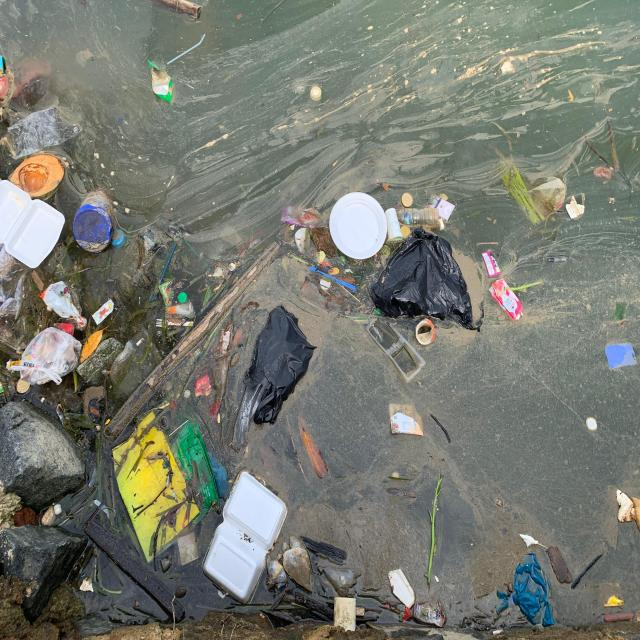Botol Plastik: (397, 207, 441, 229), (310, 86, 325, 103), (400, 193, 415, 209)
Bungkus Makanan: (112, 410, 221, 559), (202, 470, 291, 609), (2, 180, 67, 270), (365, 314, 429, 388), (37, 280, 90, 330), (146, 58, 179, 110), (413, 600, 449, 630), (92, 300, 118, 325), (297, 204, 324, 226), (482, 251, 503, 278)
Bungkus Minuman: (388, 402, 428, 442), (384, 209, 406, 243)
Kantong Plastik: (371, 227, 486, 333), (243, 305, 319, 426), (8, 327, 84, 392), (497, 550, 557, 631), (7, 105, 87, 158)
